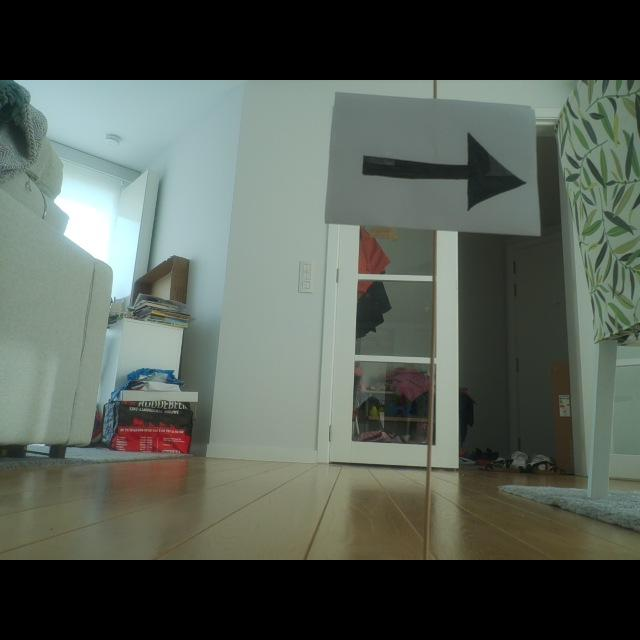jobbra_nyil: (363, 134, 525, 209)
